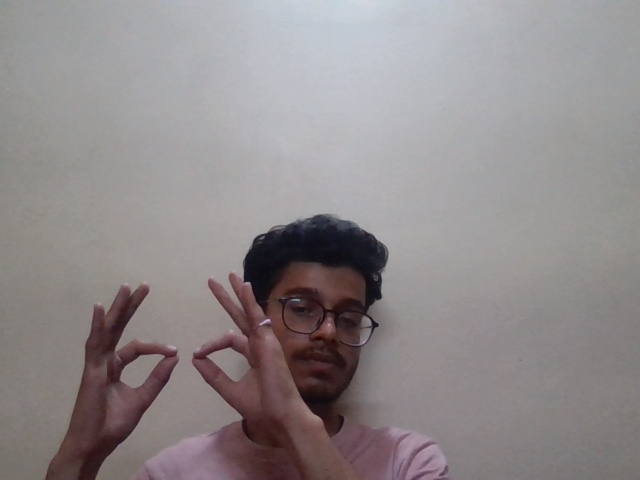nice: (62, 258, 307, 433)
